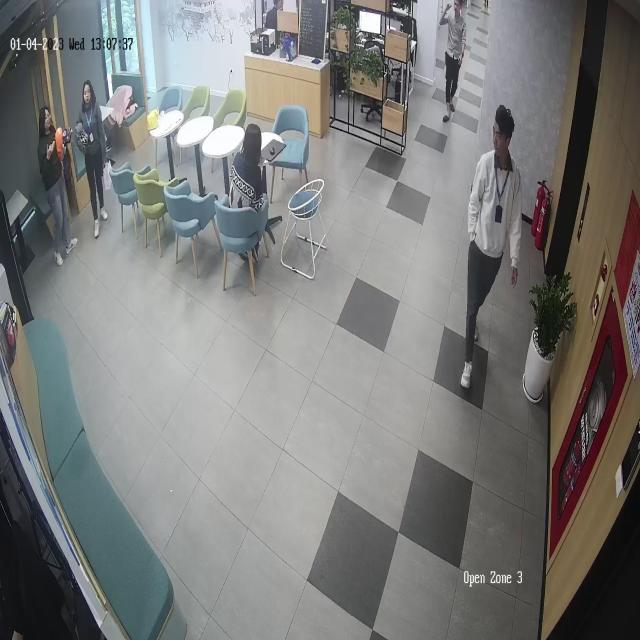person: (460, 104, 523, 389), (37, 106, 78, 267), (74, 78, 109, 237), (230, 124, 267, 246), (440, 0, 467, 122)
